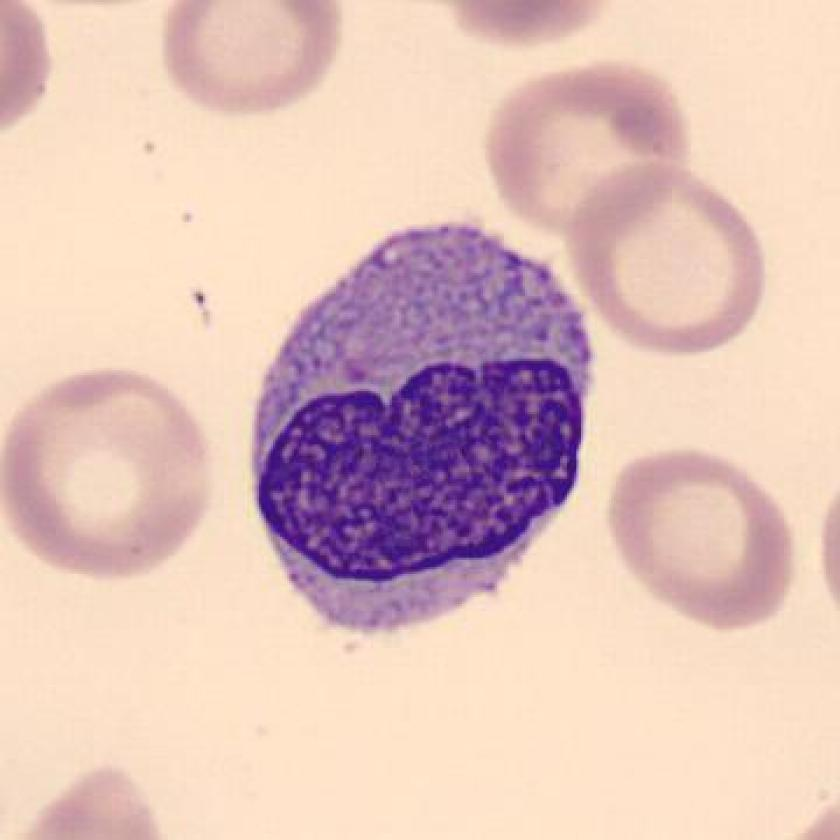monocyte: (234, 205, 615, 665)
